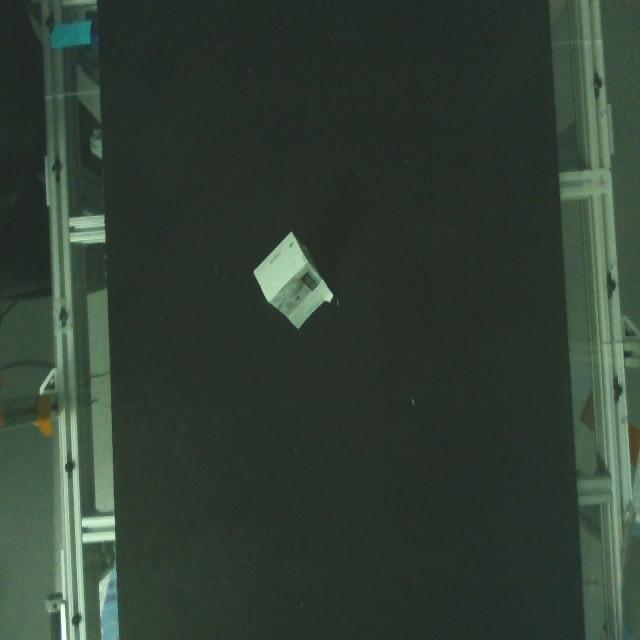paper: (252, 228, 351, 340)
